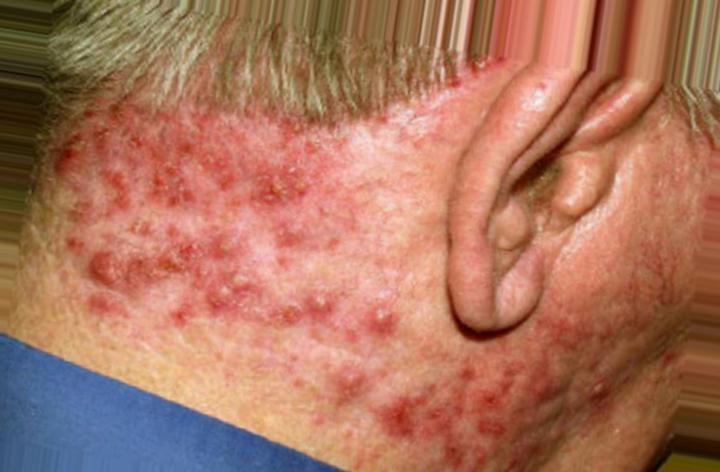Folliculitis: (66, 90, 398, 360)
